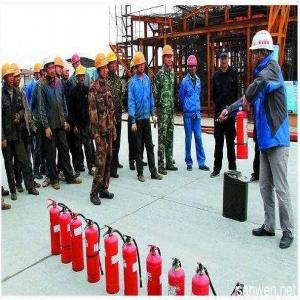none: (219, 47, 230, 71)
red: (187, 53, 199, 78), (72, 53, 82, 70)
white: (250, 29, 276, 71), (63, 60, 71, 82)
yellow: (2, 62, 15, 91), (134, 49, 147, 77), (95, 53, 109, 78), (11, 62, 22, 88), (163, 45, 174, 70), (76, 64, 87, 88), (107, 52, 118, 75), (54, 56, 64, 79), (33, 61, 43, 81)
